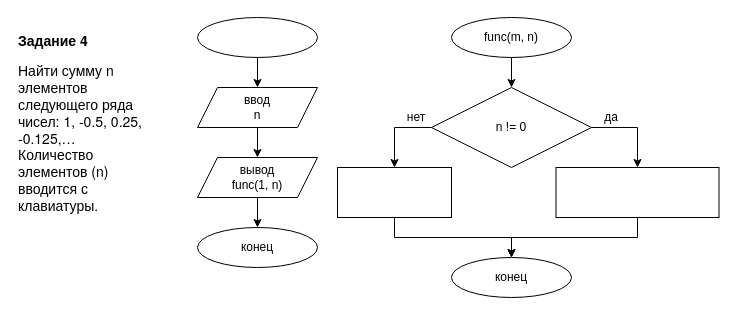
Image size: 736x315. Some labels were removed from this diagram. Here are the shapes that lost their labels. From the top down, the centre of each, then its label:
the point at 257,37: начало
the point at 394,192: return m
the point at 637,192: return m + func(m / -2, n - 1)
